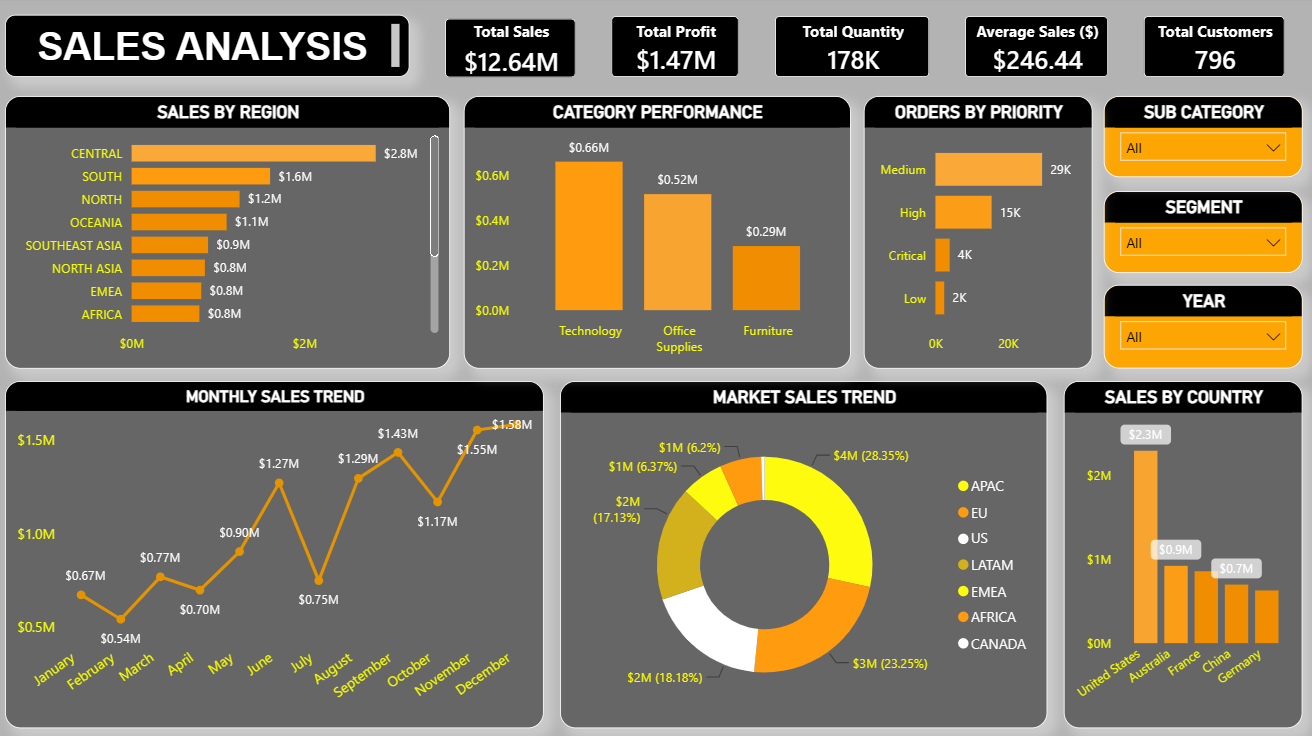

This screenshot's page, from the dashboard's own definition file:
{"tool":"powerbi","page":{"name":"Sales Analysis","canvas":[1280,720],"ordinal":1},"visuals":[{"type":"clusteredBarChart","title":"SALES BY REGION","fields":{"Y":["Sum(Clean Data.sales)"],"Category":["Clean Data.region"]},"box":[9.6,96.1,429.5,263.5],"z":0},{"type":"donutChart","title":"MARKET SALES TREND","fields":{"Category":["Clean Data.market"],"Y":["Sum(Clean Data.sales)"]},"box":[544.8,371.9,470.7,334.8],"z":1000},{"type":"lineChart","title":"MONTHLY SALES TREND","fields":{"Category":["Clean Data.order_date.Variation.Date Hierarchy.Month"],"Y":["Sum(Clean Data.sales)"]},"box":[9.6,371.9,520.1,334.8],"z":2000},{"type":"columnChart","title":"CATEGORY PERFORMANCE","fields":{"Category":["Clean Data.category"],"Y":["Sum(Clean Data.profit)"]},"box":[452.8,96.1,373.2,263.5],"z":3000},{"type":"textbox","box":[10,18.6,390,60],"z":4000},{"type":"cardVisual","fields":{"Data":["Sum(Clean Data.sales)"]},"box":[417.1,4.3,160,91.4],"z":5000},{"type":"cardVisual","fields":{"Data":["Sum(Clean Data.profit)"]},"box":[577.7,2.7,157.8,93.3],"z":6000},{"type":"cardVisual","fields":{"Data":["Sum(Clean Data.quantity)"]},"box":[735.5,2.7,183.9,93.3],"z":7000},{"type":"slicer","title":"SEGMENT","fields":{"Values":["Clean Data.segment"]},"box":[1070.3,188,192.1,79.6],"z":8000},{"type":"slicer","title":"SUB CATEGORY","fields":{"Values":["Clean Data.sub_category"]},"box":[1070.3,96.1,192.1,78.2],"z":9000},{"type":"slicer","title":"YEAR","fields":{"Values":["Clean Data.year"]},"box":[1070.3,278.6,192.1,81],"z":10000},{"type":"cardVisual","fields":{"Data":["Avg(Clean Data.sales)"]},"box":[919.4,2.7,172.9,93.3],"z":11000},{"type":"cardVisual","fields":{"Data":["Count(Clean Data.customer_name)"]},"box":[1092.3,2.7,170.2,93.3],"z":12000},{"type":"clusteredBarChart","title":"ORDERS BY PRIORITY","fields":{"Category":["Clean Data.order_priority"],"Y":["CountNonNull(Clean Data.order_id)"]},"box":[838.4,96.1,220.9,263.5],"z":13000},{"type":"lineStackedColumnComboChart","title":"SALES BY COUNTRY","fields":{"Category":["Clean Data.country"],"Y":["Sum(Clean Data.sales)"]},"box":[1031.9,371.9,230.5,334.8],"z":14000}]}

Visuals, with their boxes in screenshot pixels (x1, y1, x2, y2), scaled from the page's 1280x720 canvas onto the 1312x736 screenshot:
"SALES BY REGION" clusteredBarChart: locate(10, 98, 450, 368)
"MARKET SALES TREND" donutChart: locate(558, 380, 1041, 722)
"MONTHLY SALES TREND" lineChart: locate(10, 380, 543, 722)
"CATEGORY PERFORMANCE" columnChart: locate(464, 98, 847, 368)
textbox: locate(10, 19, 410, 80)
cardVisual - Sum(Clean Data.sales): locate(428, 4, 592, 98)
cardVisual - Sum(Clean Data.profit): locate(592, 3, 754, 98)
cardVisual - Sum(Clean Data.quantity): locate(754, 3, 942, 98)
"SEGMENT" slicer: locate(1097, 192, 1294, 274)
"SUB CATEGORY" slicer: locate(1097, 98, 1294, 178)
"YEAR" slicer: locate(1097, 285, 1294, 368)
cardVisual - Avg(Clean Data.sales): locate(942, 3, 1120, 98)
cardVisual - Count(Clean Data.customer_name): locate(1120, 3, 1294, 98)
"ORDERS BY PRIORITY" clusteredBarChart: locate(859, 98, 1086, 368)
"SALES BY COUNTRY" lineStackedColumnComboChart: locate(1058, 380, 1294, 722)
